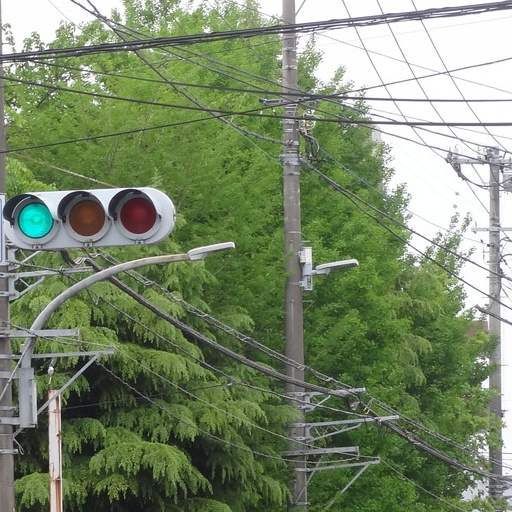Traffic_Signal_Blue: (12, 183, 166, 246)
